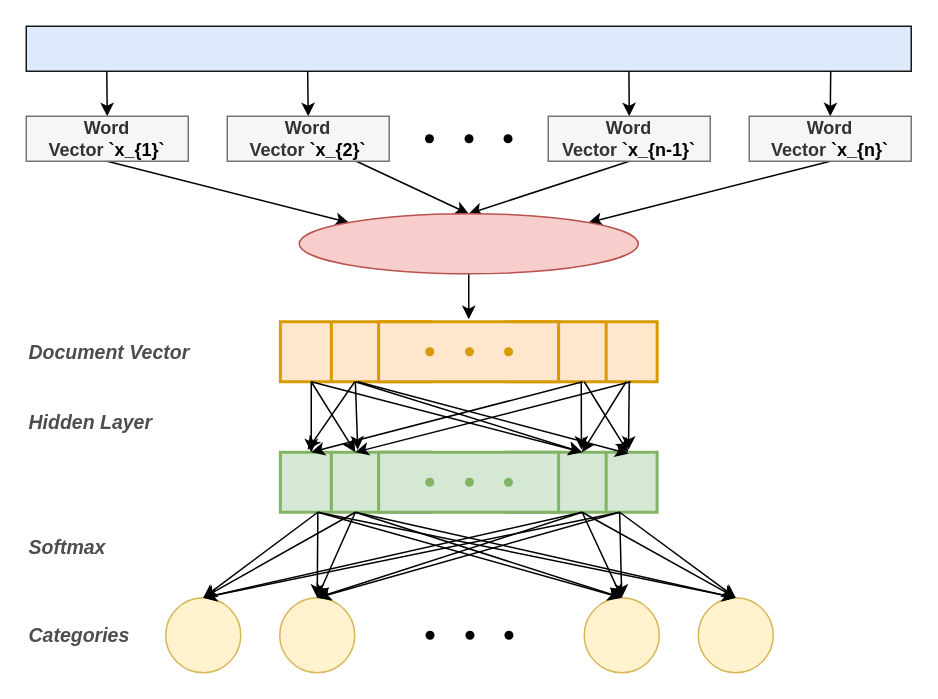
This 938x699 diagram has some shape labels left out. The shapes that lost their labels are listed below. From the top down, each one's box as (x1, y1, x2, y2) in pixels, then its label:
(25, 25, 911, 71): PR Title
(298, 212, 638, 274): Averaging
